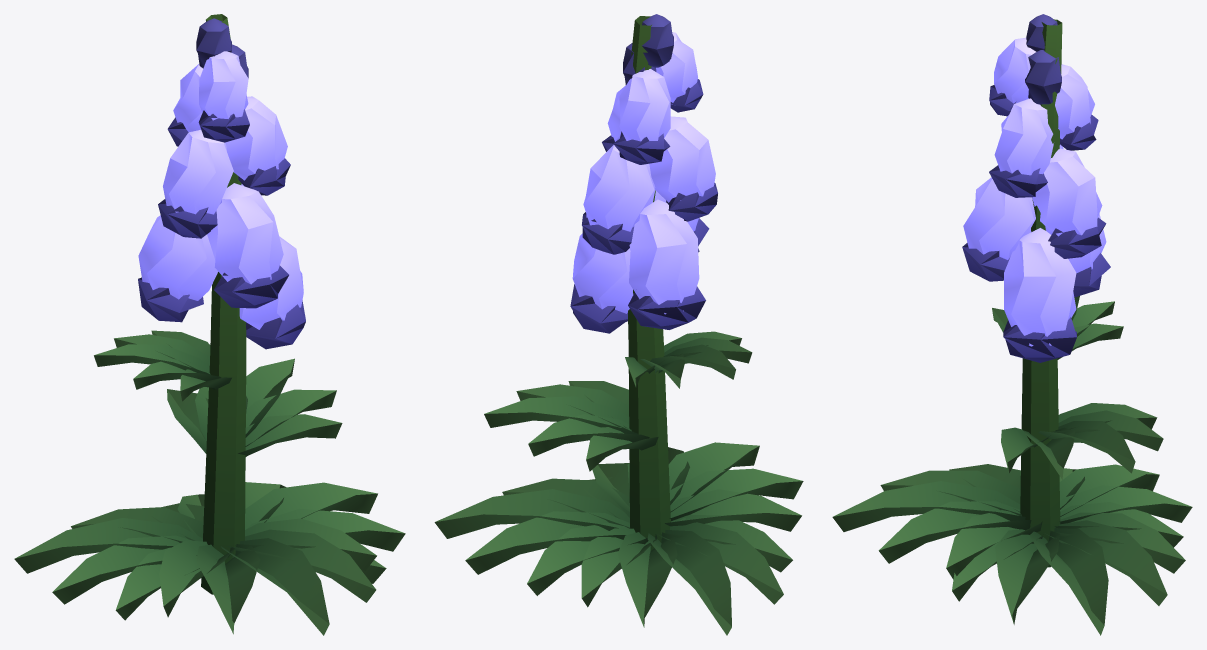
File: wolfsbane_bloom.glb
3 renders of one model, left to right at view 1: azimuth 30°, elevation 25°; view 2: azimuth 150°, elevation 25°; view 3: azimuth 270°, elevation 25°, orthographic. The views are drawn at different scales.
Parts seen in each view (by area): view 1: wolfsbane_bloom, wolfsbane_bloom_glow; view 2: wolfsbane_bloom, wolfsbane_bloom_glow; view 3: wolfsbane_bloom, wolfsbane_bloom_glow.
Part boxes in pixels (x1,y1,x2,y2): wolfsbane_bloom: (14, 14, 405, 635); wolfsbane_bloom_glow: (138, 51, 303, 329); wolfsbane_bloom: (434, 14, 803, 635); wolfsbane_bloom_glow: (572, 32, 715, 314); wolfsbane_bloom: (832, 14, 1192, 635); wolfsbane_bloom_glow: (963, 37, 1106, 346).
Size of the model in its own units: 0.6362 by 1.01 by 0.6085.
